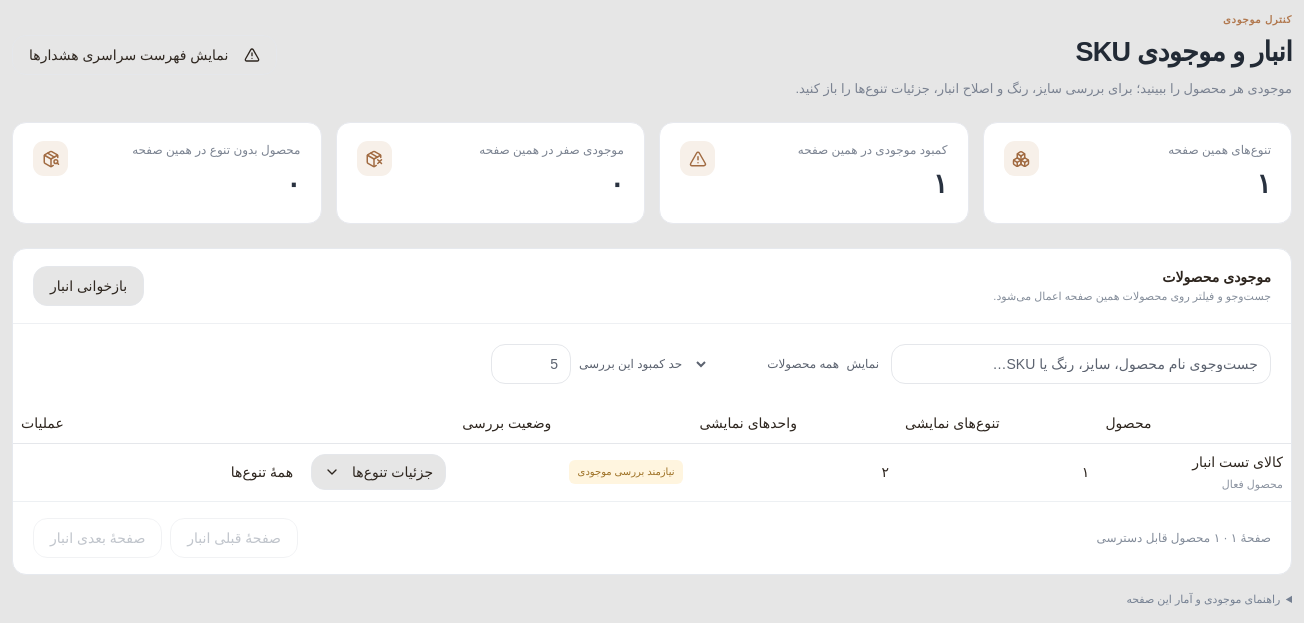
Scenario: inventory page › invalid thresholds do not reuse previous counts as if they were valid
The width and height of the screenshot is (1304, 623).
Replace the text in the field named "حد کمبود موجودی" with "-1" at (531, 364), box [491, 344, 571, 384]
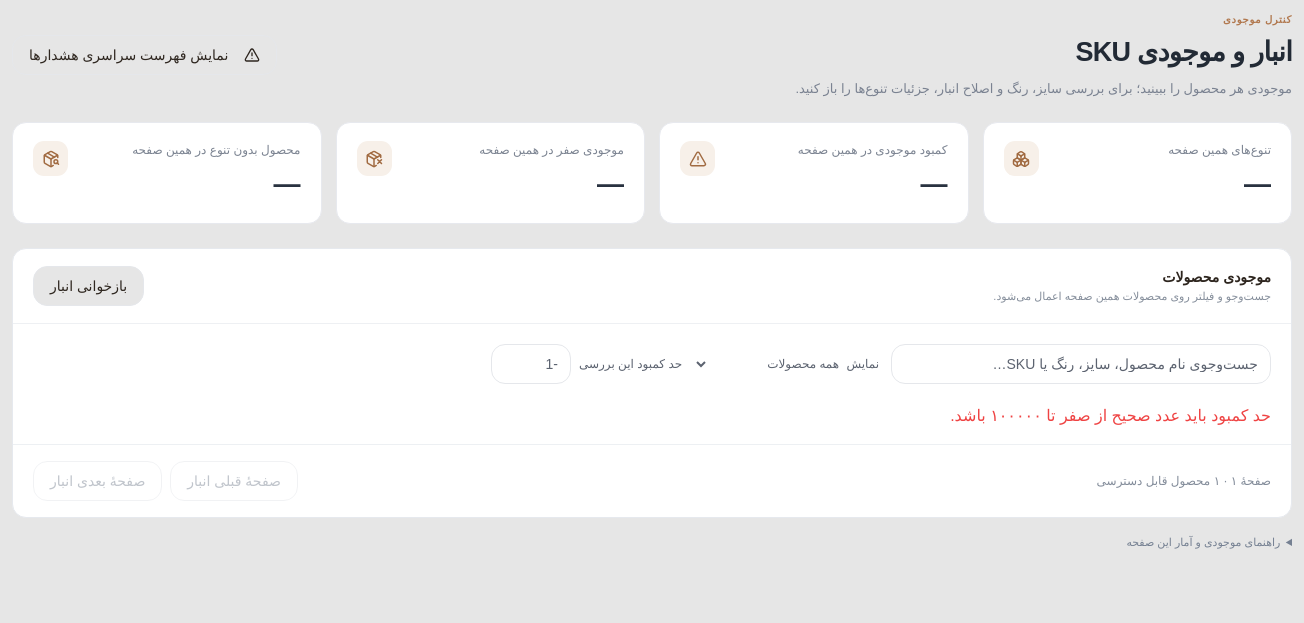
Check: the message shows "حد کمبود", box [950, 406, 1271, 424]
